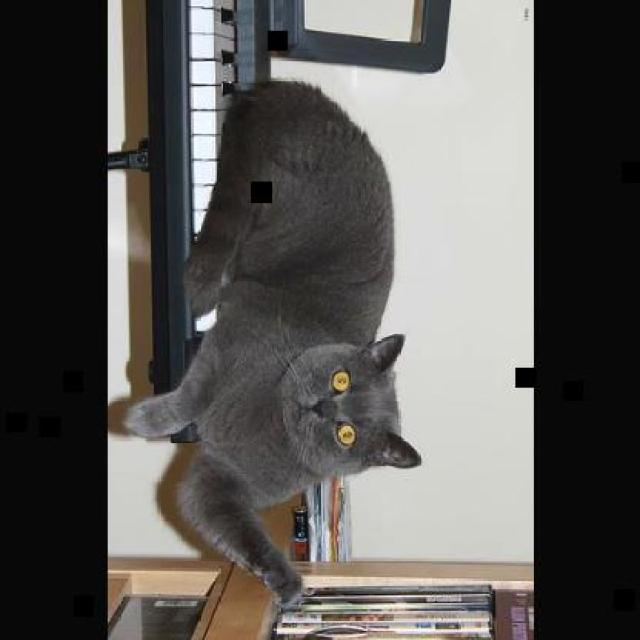unauthorized: (121, 77, 422, 612)
